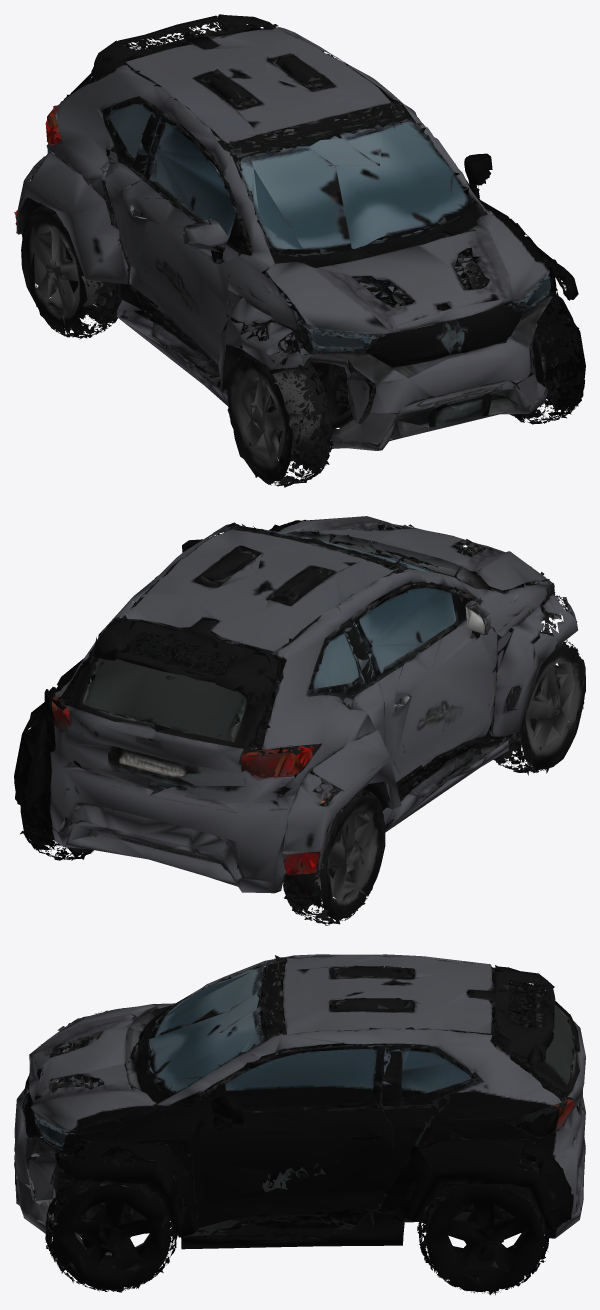
3 views of the same model, one above another, from view 1: azimuth 30°, elevation 25°; view 2: azimuth 150°, elevation 25°; view 3: azimuth 270°, elevation 25° (orthographic). The views are drawn at different scales.
Visible parts, largest first — view 1: SM_SM_AI_hatch; view 2: SM_SM_AI_hatch; view 3: SM_SM_AI_hatch.
Part boxes in pixels (x1=…): SM_SM_AI_hatch: x1=14, y1=14, x2=585, y2=487; SM_SM_AI_hatch: x1=14, y1=516, x2=585, y2=925; SM_SM_AI_hatch: x1=14, y1=954, x2=585, y2=1294.
Bounding box in the file's own units: 2.37 × 1.93 × 4.
1 material, 1 textured.
